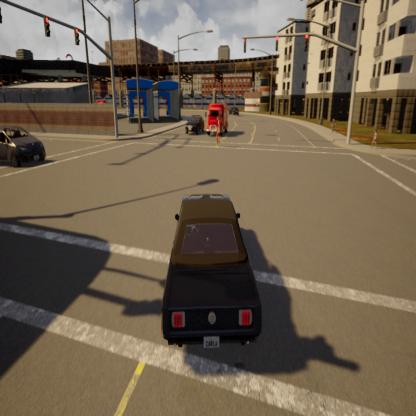Cars: (156, 177, 270, 356), (0, 100, 45, 180), (180, 104, 204, 145), (207, 99, 229, 142), (231, 96, 239, 121)
Pedestrian: (364, 117, 384, 162), (327, 108, 342, 142), (214, 113, 222, 148)
